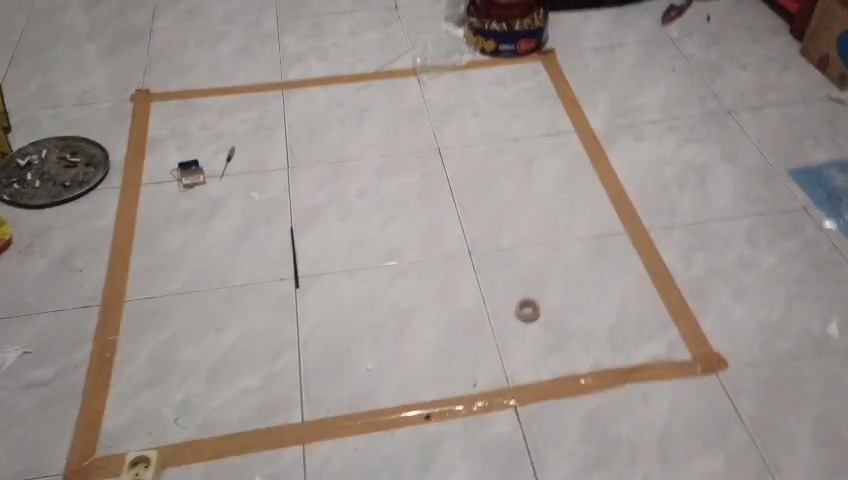floor marking: (158, 50, 727, 465), (64, 70, 413, 479)
